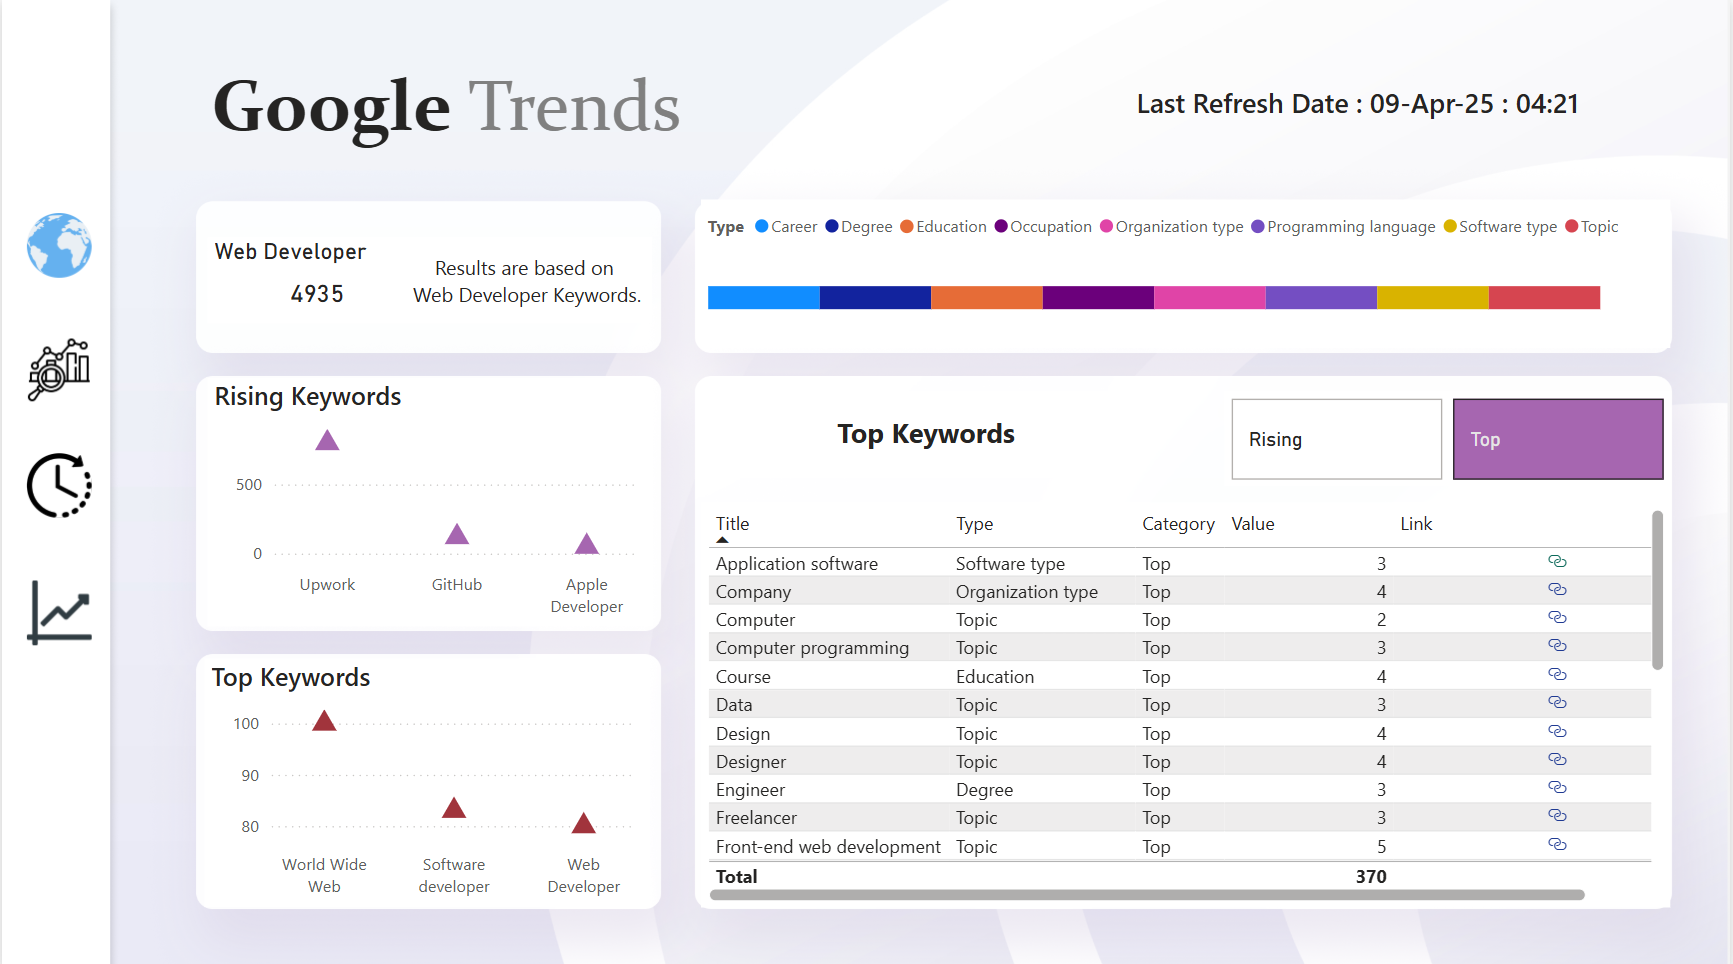

What the dashboard file says about the page in this screenshot:
{"tool":"powerbi","page":{"name":"Rising and Top Keywords","canvas":[1280,720],"ordinal":3},"visuals":[{"type":"card","fields":{"Values":["By_Date_API.Imp_Value"]},"box":[152,176,162,64],"z":0},{"type":"card","fields":{"Values":["Related_Keywords_Main.Imp_Short_Title"]},"box":[296,176,186,64],"z":1},{"type":"lineChart","title":"Rising Keywords","fields":{"Category":["Rising_Keywords.Title"],"Y":["Sum(Rising_Keywords.Value)"]},"box":[152,280,330,184],"z":2},{"type":"lineChart","title":"Top Keywords","fields":{"Category":["Top_Keywords.Title"],"Y":["Sum(Top_Keywords.Value)"]},"box":[150,488,330,184],"z":3},{"type":"barChart","fields":{"Y":["Sum(Rising_Keywords.Value)"],"Series":["Top_Keywords.Type"]},"box":[518,148,718,110],"z":4},{"type":"advancedSlicerVisual","fields":{"Values":["Rising_Top.Category"]},"box":[906,290,330,70],"z":5},{"type":"tableEx","fields":{"Values":["Rising_Top.Title","Rising_Top.Type","Rising_Top.Category","Sum(Rising_Top.Value)","Rising_Top.Link"]},"box":[518,372,718,300],"z":6},{"type":"card","fields":{"Values":["Rising_Top.Title_TR"]},"box":[542,290,284,64],"z":7},{"type":"textbox","box":[150,40,534,76],"z":8},{"type":"card","fields":{"Values":["Min(Refresh_Date.Refresh_Date)"]},"box":[798,50,412,54],"z":9},{"type":"actionButton","box":[14,148,56,68],"z":10},{"type":"actionButton","box":[14,240,56,68],"z":11},{"type":"actionButton","box":[14,326,56,68],"z":12},{"type":"actionButton","box":[14,420,56,68],"z":13}]}

Visuals, with their boxes in screenshot pixels (x1, y1, x2, y2), scaled from the page's 1280x720 canvas onto the 1733x964 screenshot:
card - By_Date_API.Imp_Value: rect(206, 236, 425, 321)
card - Related_Keywords_Main.Imp_Short_Title: rect(401, 236, 653, 321)
"Rising Keywords" lineChart: rect(206, 375, 653, 621)
"Top Keywords" lineChart: rect(203, 653, 650, 900)
barChart - Sum(Rising_Keywords.Value) x Top_Keywords.Type: rect(701, 198, 1673, 345)
advancedSlicerVisual - Rising_Top.Category: rect(1227, 388, 1673, 482)
tableEx - Rising_Top.Title x Rising_Top.Type: rect(701, 498, 1673, 900)
card - Rising_Top.Title_TR: rect(734, 388, 1118, 474)
textbox: rect(203, 54, 926, 155)
card - Min(Refresh_Date.Refresh_Date): rect(1080, 67, 1638, 139)
actionButton: rect(19, 198, 95, 289)
actionButton: rect(19, 321, 95, 412)
actionButton: rect(19, 436, 95, 528)
actionButton: rect(19, 562, 95, 653)
